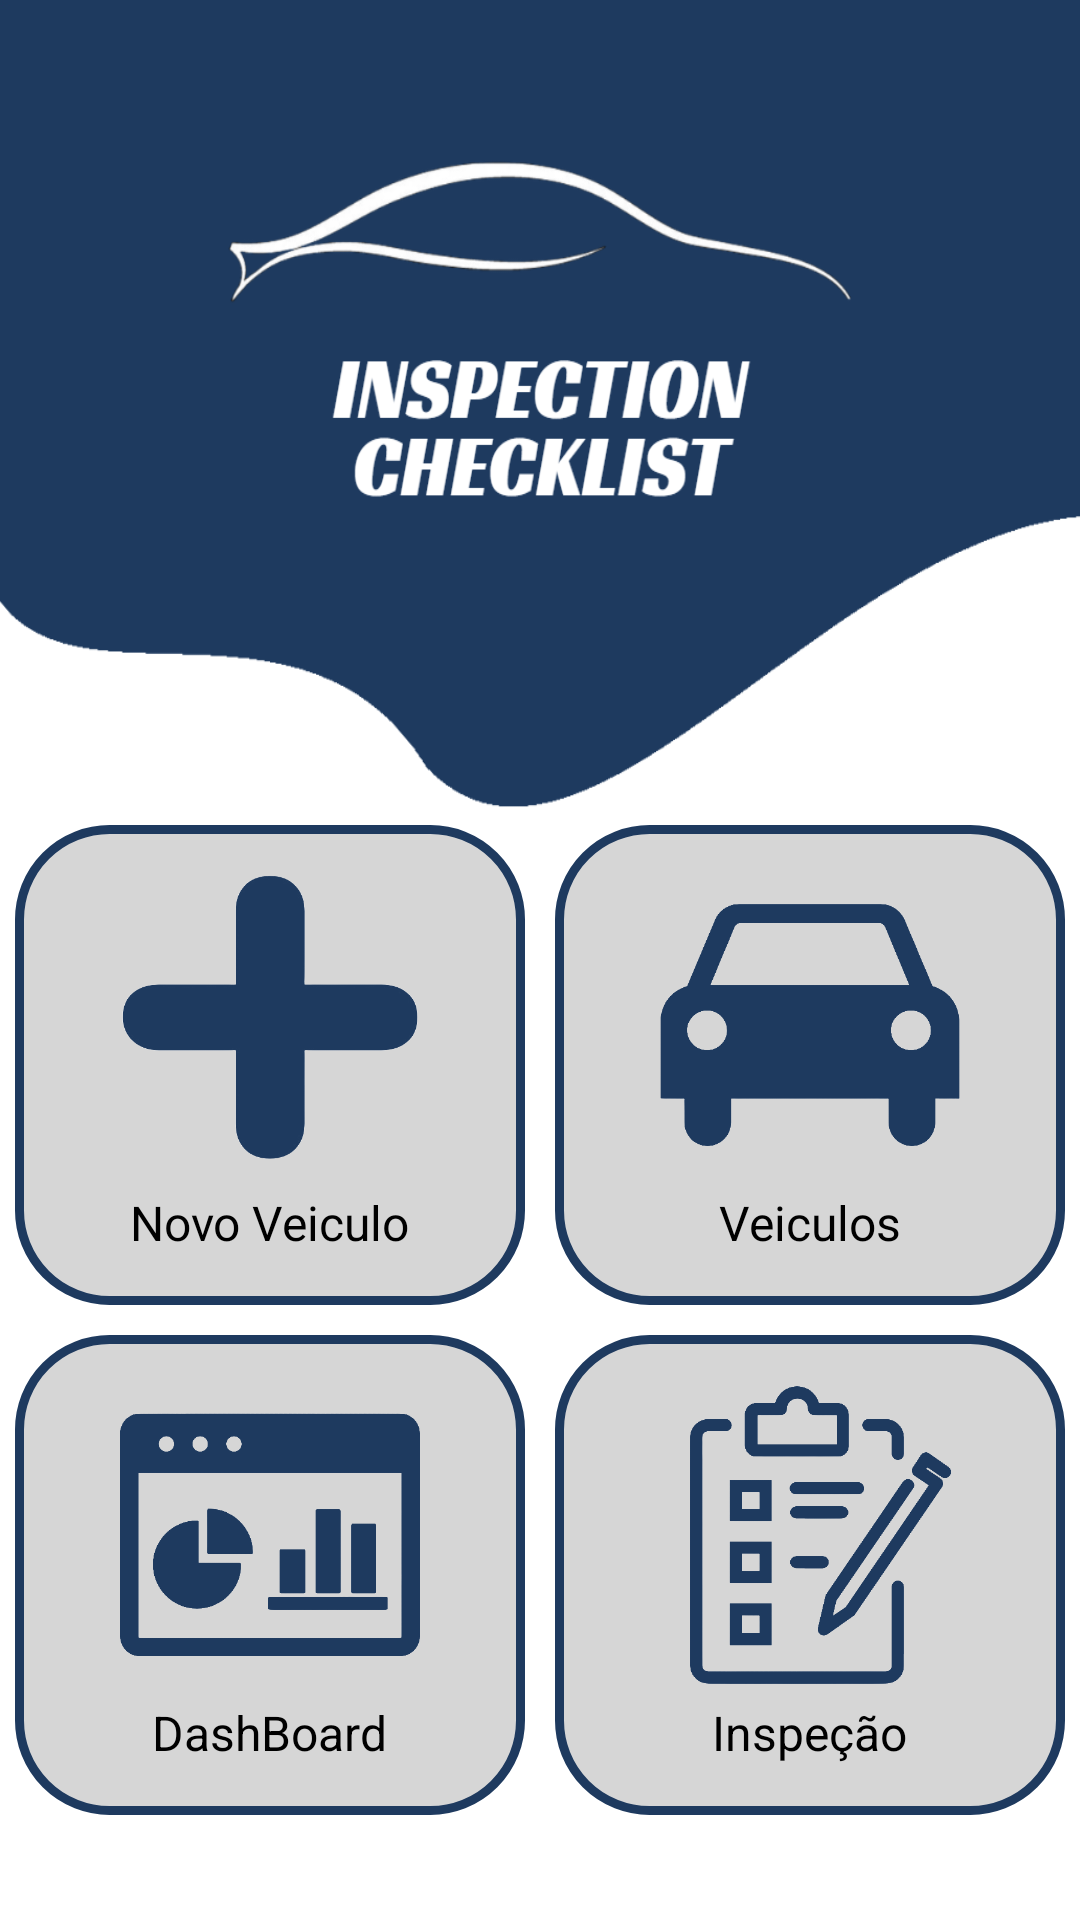

Icons on this 1080px x 1920px Android screen, each with its box as (x1, y1, x2, y2):
listicon: (690, 1386, 951, 1684)
plusicon: (123, 876, 418, 1159)
